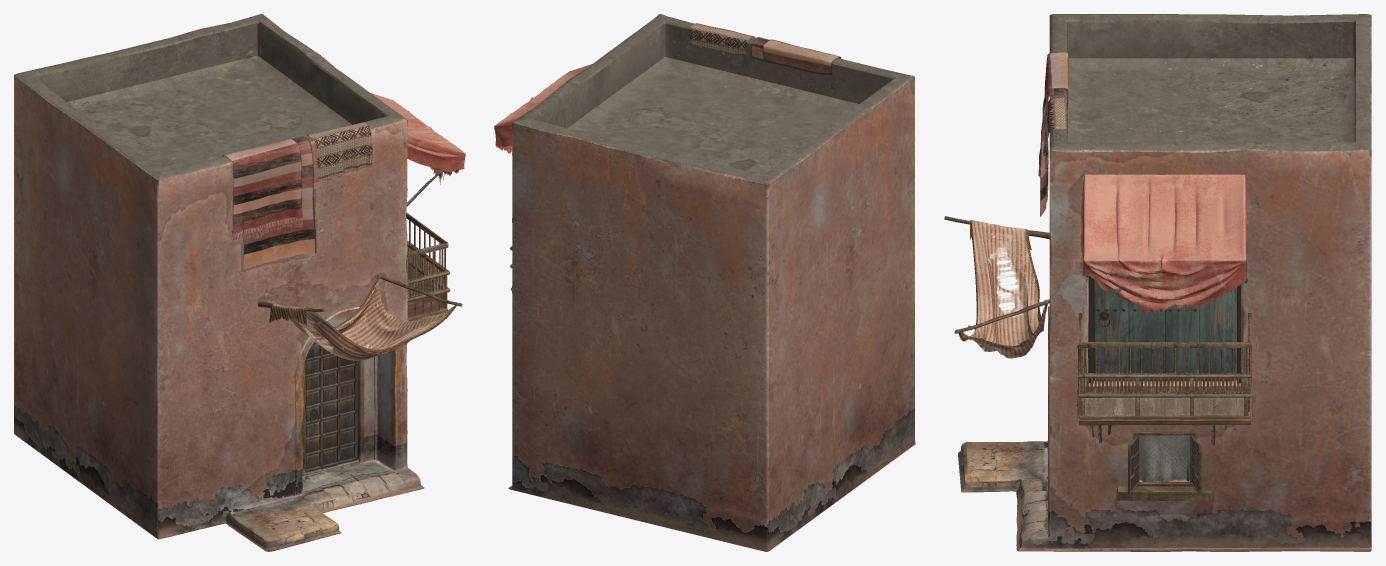
Rendered from xi_oam_building_small.gltf.
The picture shows the model from 3 angles, left to right: view 1: azimuth 30°, elevation 25°; view 2: azimuth 150°, elevation 25°; view 3: azimuth 270°, elevation 25°; orthographic projection. The views are drawn at different scales.
Visible parts, largest first — view 1: xi_oam_building_small; view 2: xi_oam_building_small; view 3: xi_oam_building_small.
Boxes of the visible parts, x1=… form: xi_oam_building_small: x1=14, y1=14, x2=465, y2=551; xi_oam_building_small: x1=494, y1=14, x2=915, y2=551; xi_oam_building_small: x1=944, y1=14, x2=1371, y2=551.
Size of the model in its own units: 5.39 by 5.68 by 5.47.
Materials: 7 (7 with a texture image).
